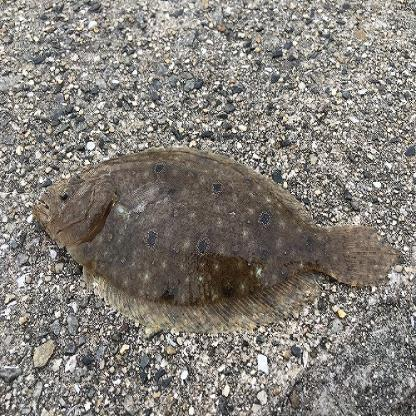flounder: (37, 138, 395, 331)
